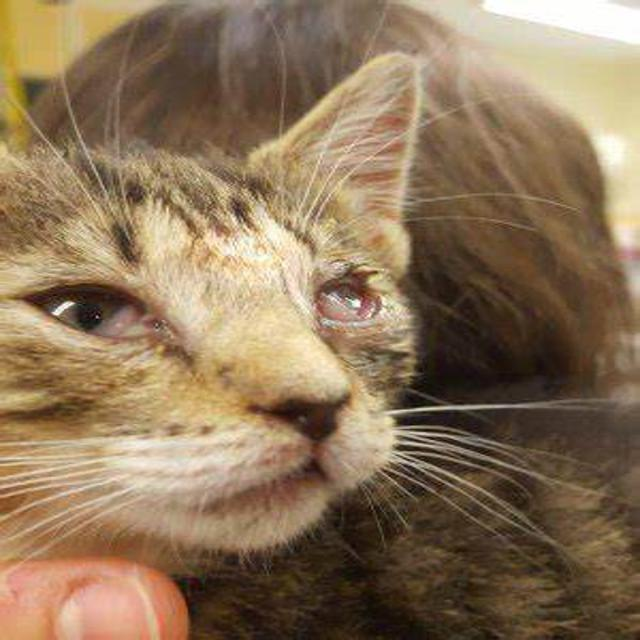eye_infection: (24, 281, 162, 346), (308, 269, 391, 336)
